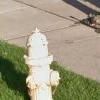Hydrant: (18, 23, 63, 100)
